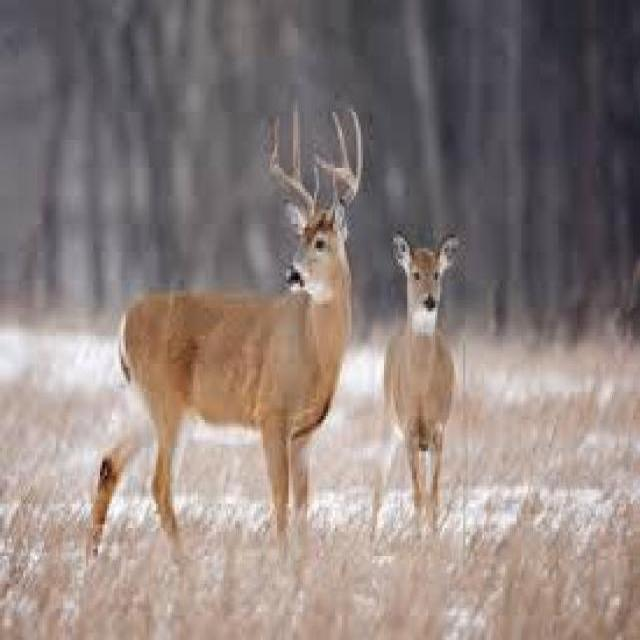deer: (92, 117, 344, 516), (393, 236, 461, 551)
